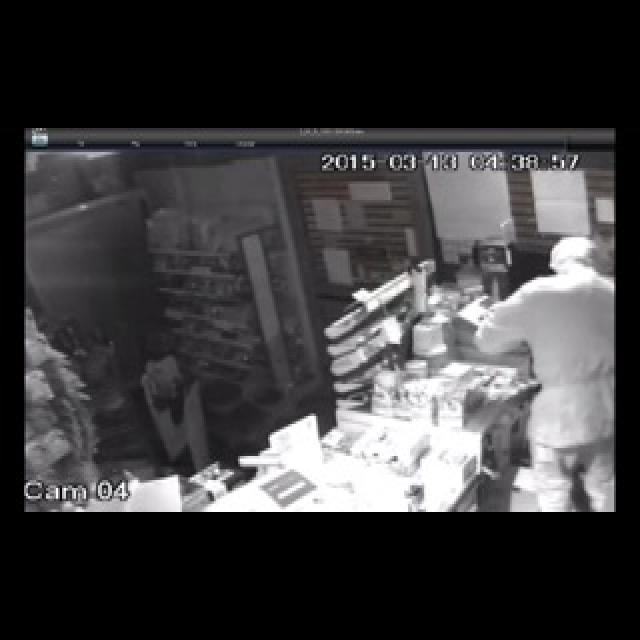thief: (456, 268, 609, 505)
